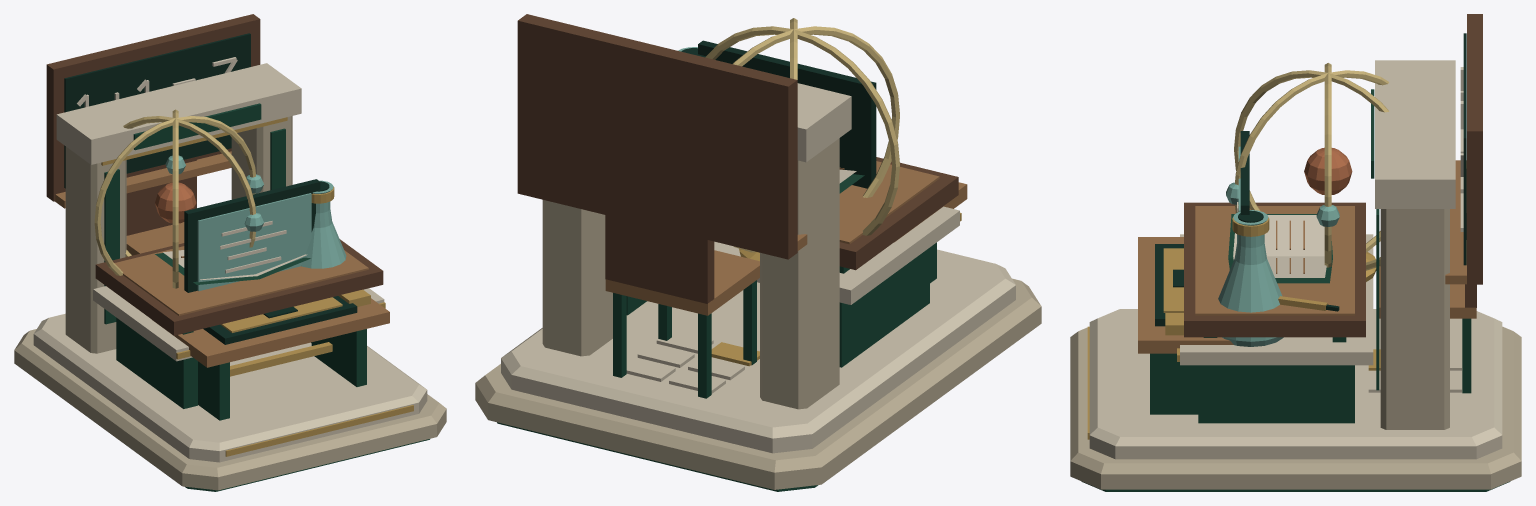
Rendered from education-chapters.glb.
3 renders of one model, left to right at view 1: azimuth 30°, elevation 25°; view 2: azimuth 150°, elevation 25°; view 3: azimuth 270°, elevation 25°, orthographic. The views are drawn at different scales.
Parts seen in each view (by area): view 1: campus, school, science; view 2: campus, school, science; view 3: campus, school, science.
Boxes of the visible parts, x1,y1,x2,y2 form: campus: (14, 63, 446, 491); school: (46, 14, 383, 376); science: (93, 109, 385, 408); campus: (475, 40, 1041, 491); school: (517, 14, 958, 398); science: (626, 18, 961, 367); campus: (1070, 60, 1521, 491); school: (1184, 14, 1482, 393); science: (1177, 63, 1388, 423).
Bounding box in the file's own units: 2.2 × 2.38 × 2.8.
